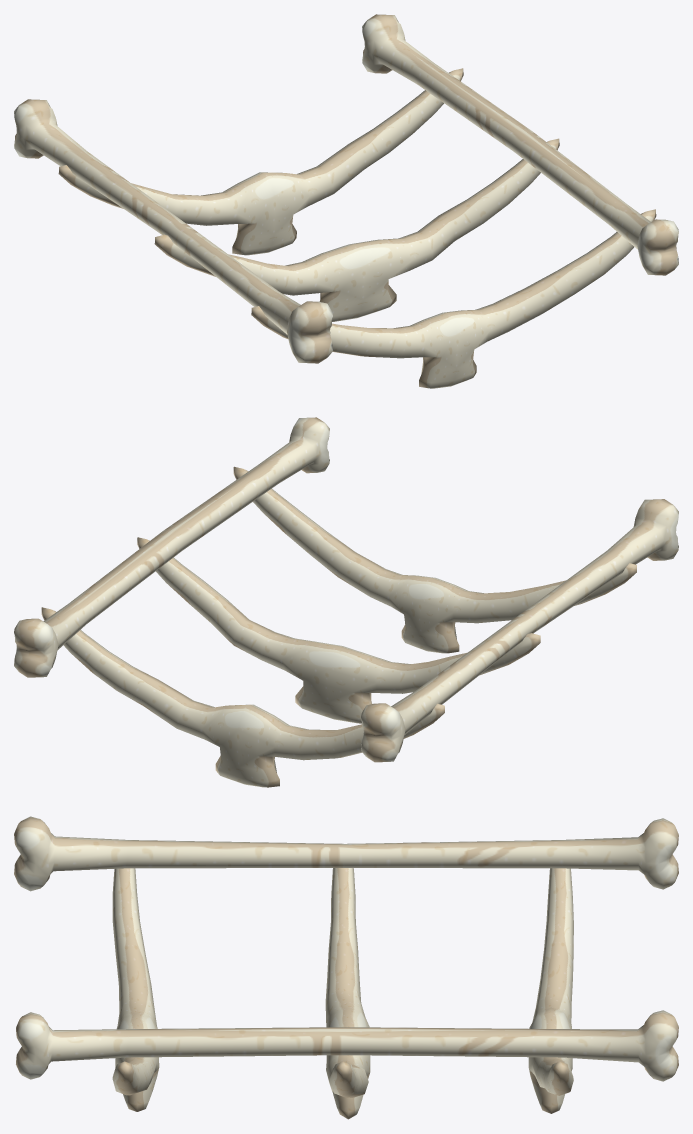
The model's file is mesaOsso.FBX.
3 renders of one model, top to bottom at view 1: azimuth 30°, elevation 25°; view 2: azimuth 150°, elevation 25°; view 3: azimuth 270°, elevation 25°, orthographic. The views are drawn at different scales.
Parts seen in each view (by area): view 1: mesaBaseOssos01, mesaBaseOssos002, mesaTabelaOsso02, mesaBaseOssos003, mesaTabelaOsso01; view 2: mesaBaseOssos002, mesaBaseOssos01, mesaTabelaOsso02, mesaBaseOssos003, mesaTabelaOsso01; view 3: mesaTabelaOsso02, mesaTabelaOsso01, mesaBaseOssos01, mesaBaseOssos002, mesaBaseOssos003.
Part boxes in pixels (x1,y1,x2,y2): mesaBaseOssos01: [154, 138, 559, 321]; mesaBaseOssos002: [58, 68, 463, 255]; mesaTabelaOsso02: [362, 14, 678, 275]; mesaBaseOssos003: [251, 209, 656, 388]; mesaTabelaOsso01: [14, 99, 332, 363]; mesaBaseOssos002: [41, 607, 444, 787]; mesaBaseOssos01: [137, 537, 540, 723]; mesaTabelaOsso02: [14, 417, 329, 677]; mesaBaseOssos003: [233, 466, 636, 653]; mesaTabelaOsso01: [361, 499, 678, 762]; mesaTabelaOsso02: [16, 1010, 678, 1081]; mesaTabelaOsso01: [14, 816, 678, 891]; mesaBaseOssos01: [325, 868, 370, 1119]; mesaBaseOssos002: [528, 868, 573, 1113]; mesaBaseOssos003: [112, 868, 159, 1111].
Size of the model in its own units: 190 by 71.88 by 239.
